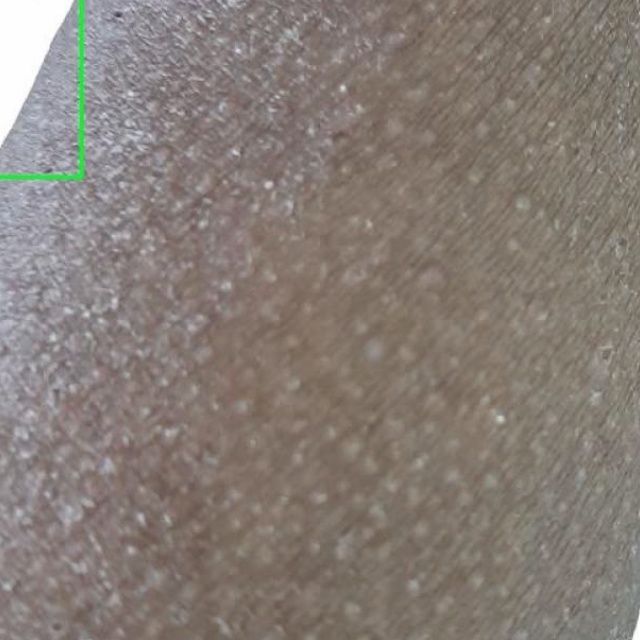Contact Dermatitis: (0, 0, 81, 177)
